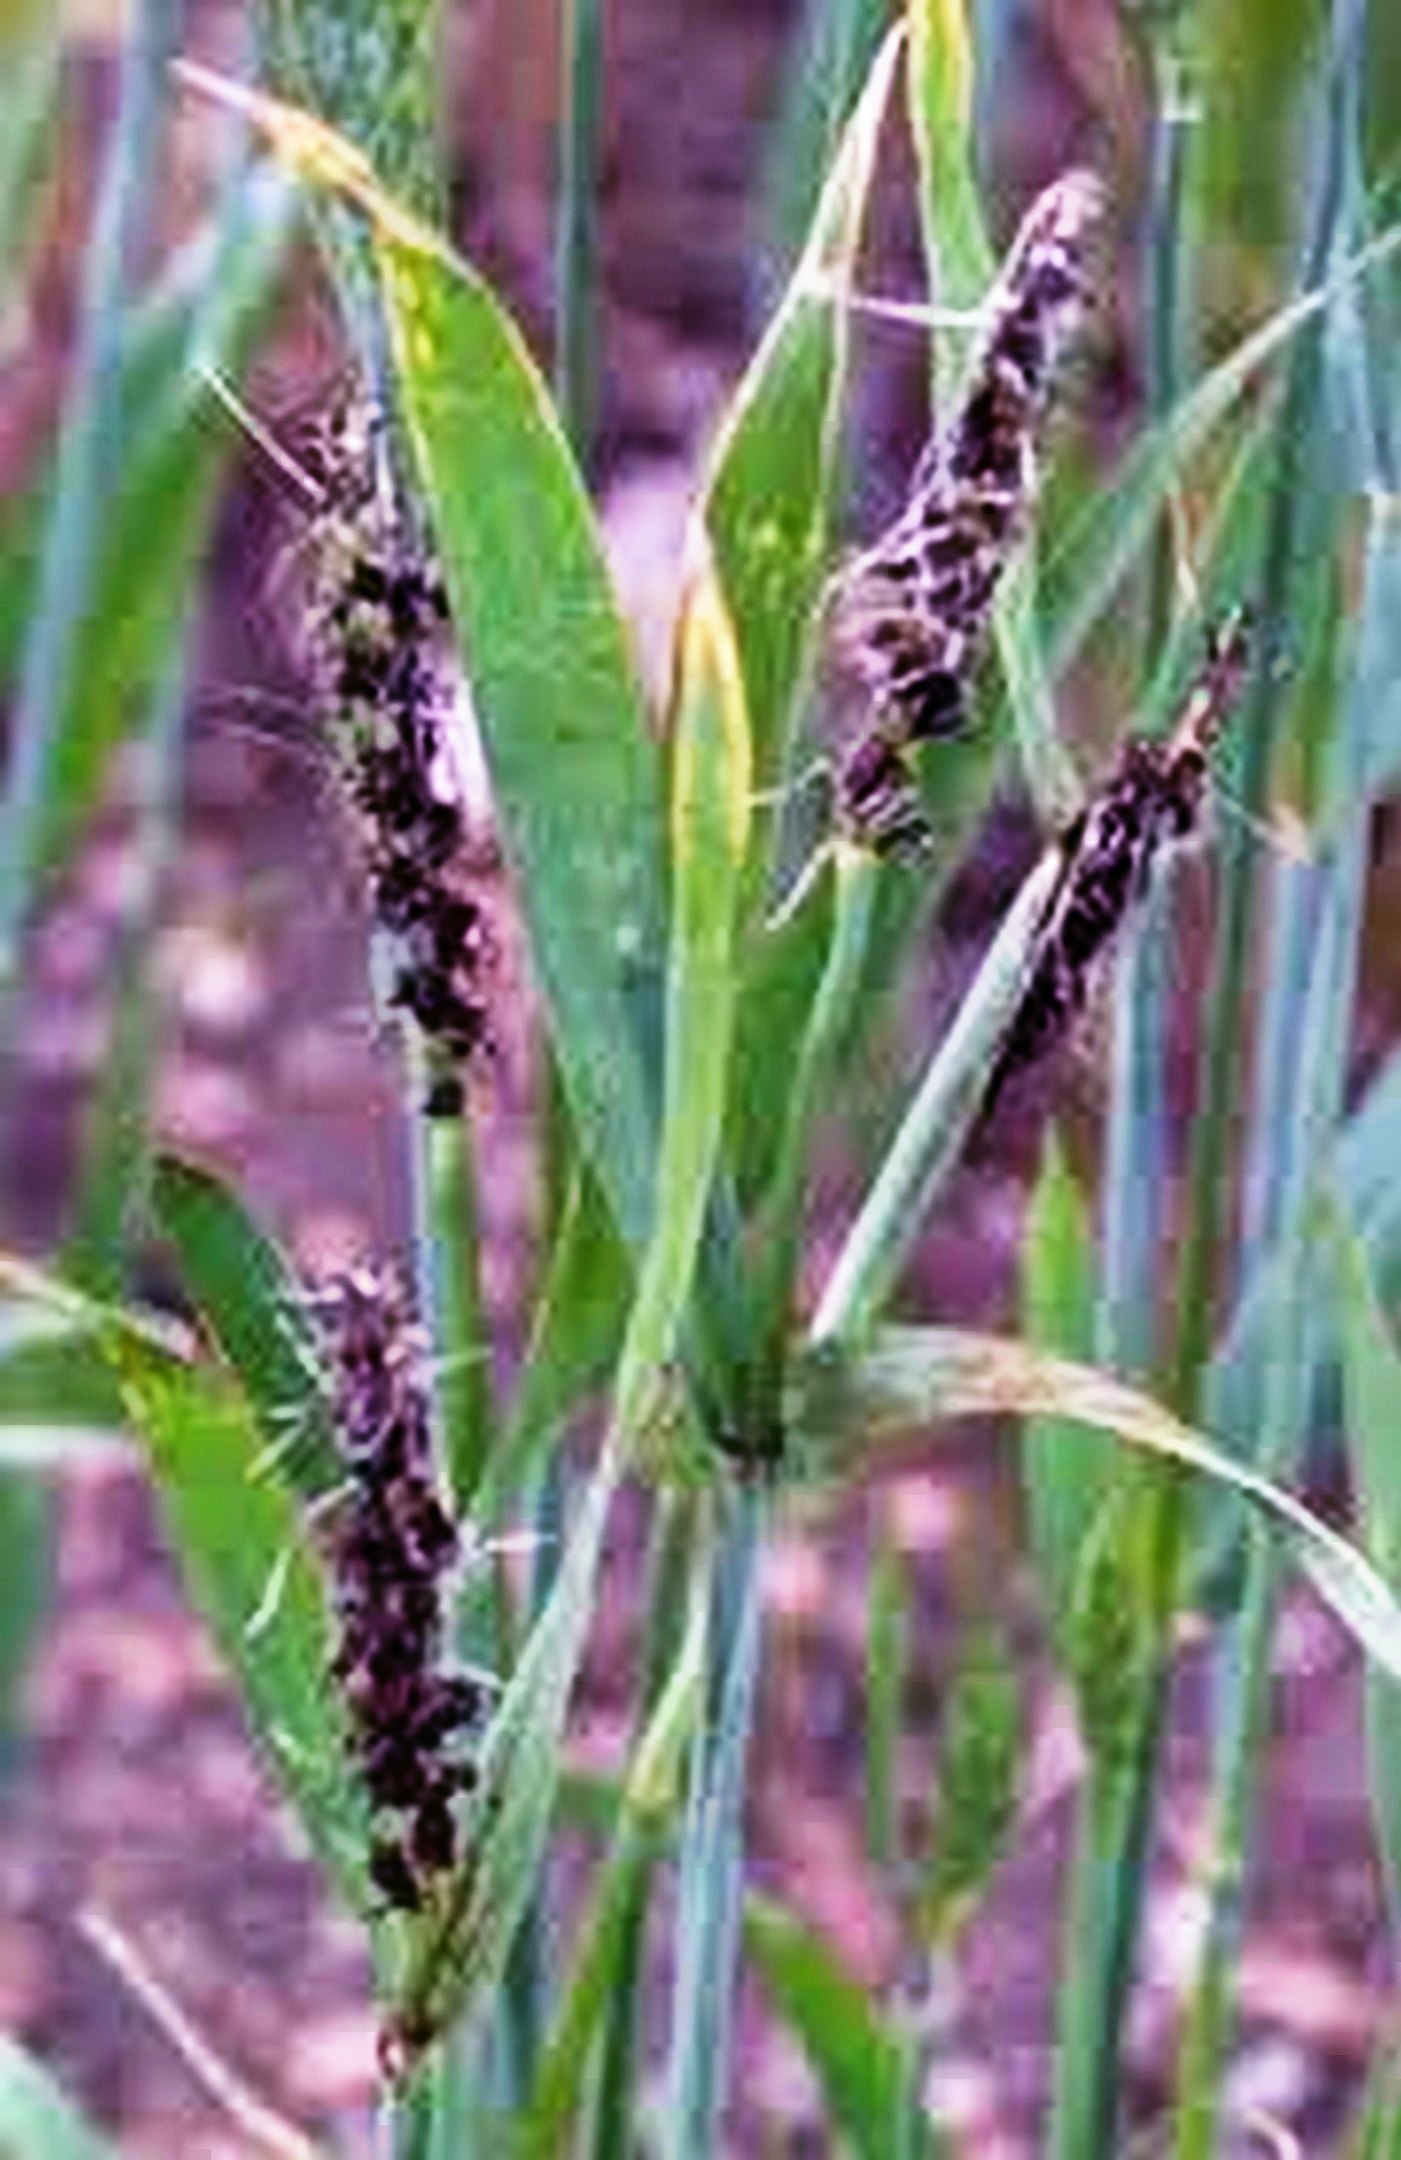Wheat Loose Smut: (793, 132, 1255, 1061), (269, 1259, 505, 1845)
